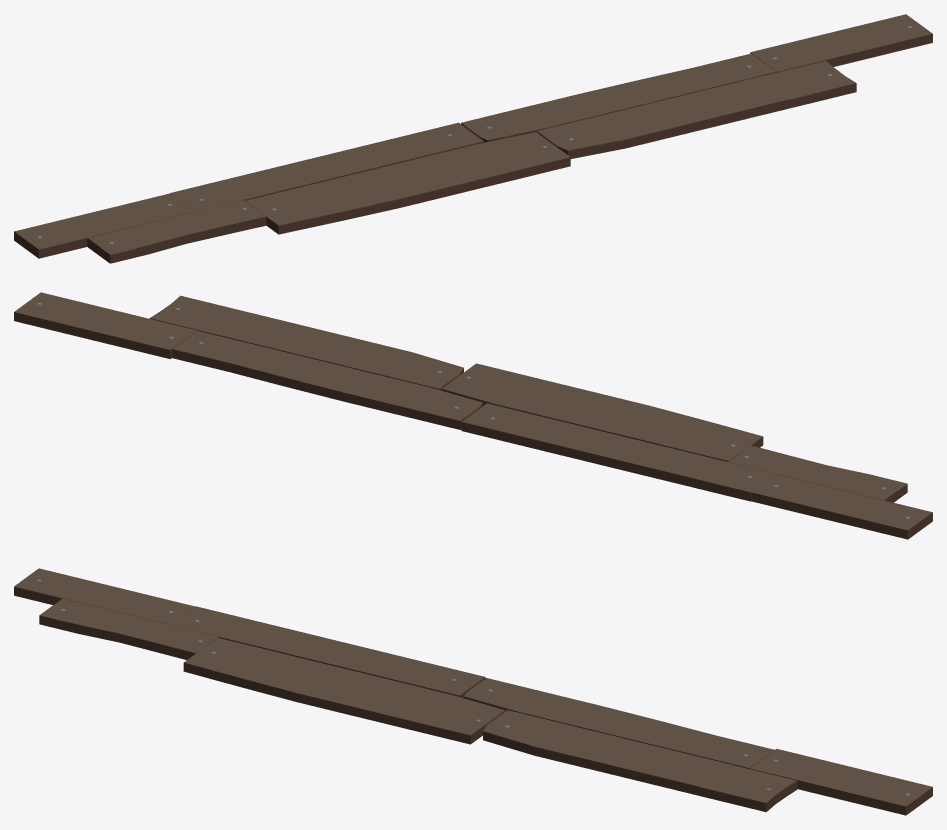
File: Planks_Skinny_02.fbx
3 renders of one model, top to bottom at view 1: azimuth 30°, elevation 25°; view 2: azimuth 150°, elevation 25°; view 3: azimuth 330°, elevation 25°, orthographic.
Visible parts, largest first — view 1: Planks_Skinny_02; view 2: Planks_Skinny_02; view 3: Planks_Skinny_02.
Boxes of the visible parts, x1,y1,x2,y2 form: Planks_Skinny_02: [14, 14, 932, 263]; Planks_Skinny_02: [14, 292, 932, 539]; Planks_Skinny_02: [14, 568, 932, 815].
Bounding box in the file's own units: 368 × 3.81 × 45.42.
